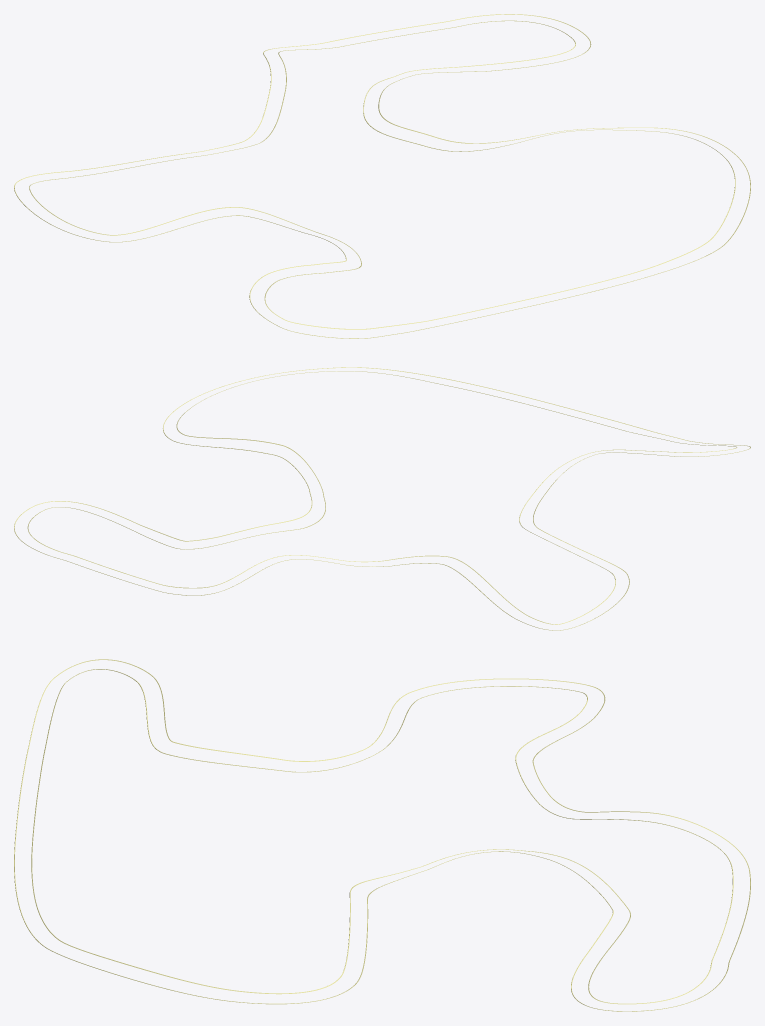
File: OpenRoadConcreteBarrier.fbx
3 views of the same model, one above another, from view 1: azimuth 30°, elevation 25°; view 2: azimuth 150°, elevation 25°; view 3: azimuth 270°, elevation 25° (orthographic). The views are drawn at different scales.
Parts seen in each view (by area): view 1: ConcreteBarrier; view 2: ConcreteBarrier; view 3: ConcreteBarrier.
Part boxes in pixels (left/top/right/bottom): ConcreteBarrier: left=14, top=14, right=750, bottom=338; ConcreteBarrier: left=14, top=367, right=750, bottom=630; ConcreteBarrier: left=14, top=659, right=750, bottom=1011.
Size of the model in its own units: 113649 by 6746 by 106340.
